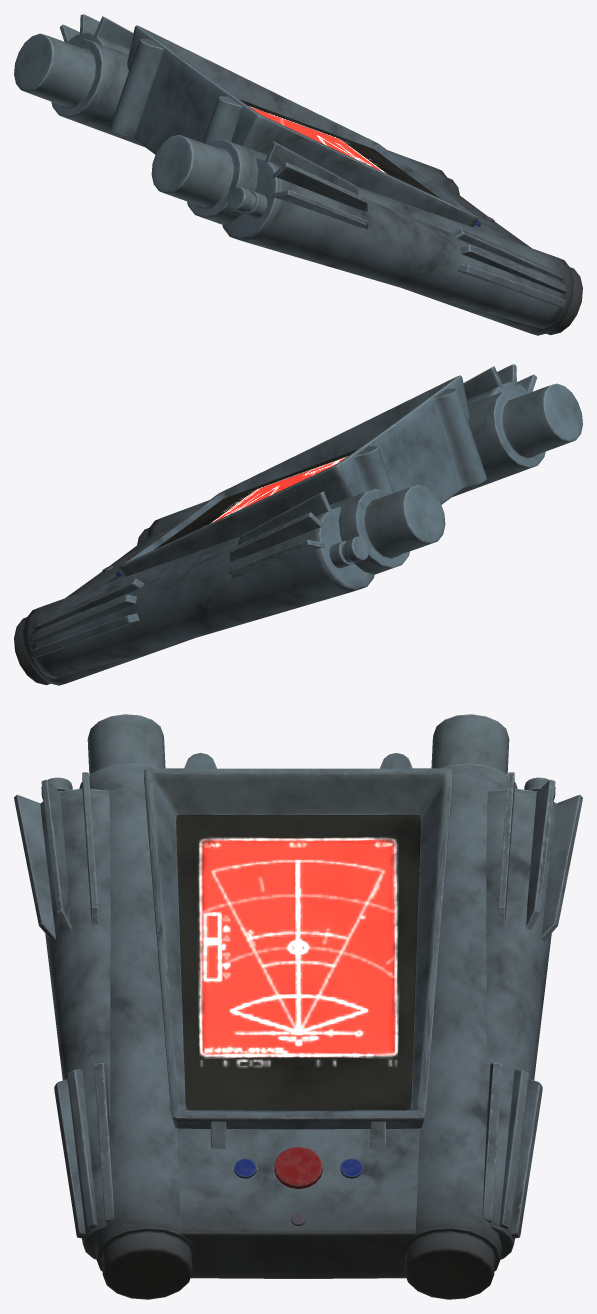
File: datapad.glb
3 views of the same model, one above another, from view 1: azimuth 30°, elevation 25°; view 2: azimuth 150°, elevation 25°; view 3: azimuth 270°, elevation 25° (orthographic). The views are drawn at different scales.
Visible parts, largest first — view 1: Cube; view 2: Cube; view 3: Cube.
Part boxes in pixels (box(x1,y1,x2,y2)): Cube: box(14, 14, 582, 335); Cube: box(14, 364, 582, 685); Cube: box(14, 714, 582, 1299).
Size of the model in its own units: 11.53 by 7.57 by 10.75.
Materials: 1 (1 with a texture image).
